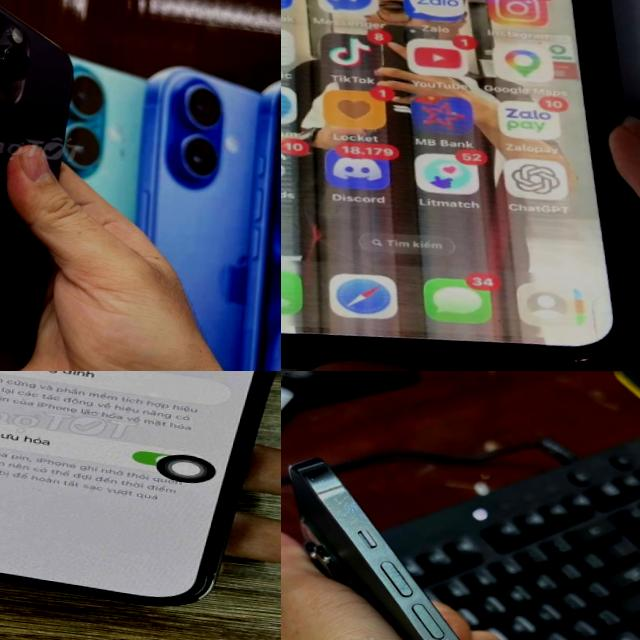scratch: (571, 349, 604, 367)
screen_defect: (281, 128, 636, 336), (281, 0, 615, 177), (281, 285, 544, 367), (544, 328, 608, 352)
